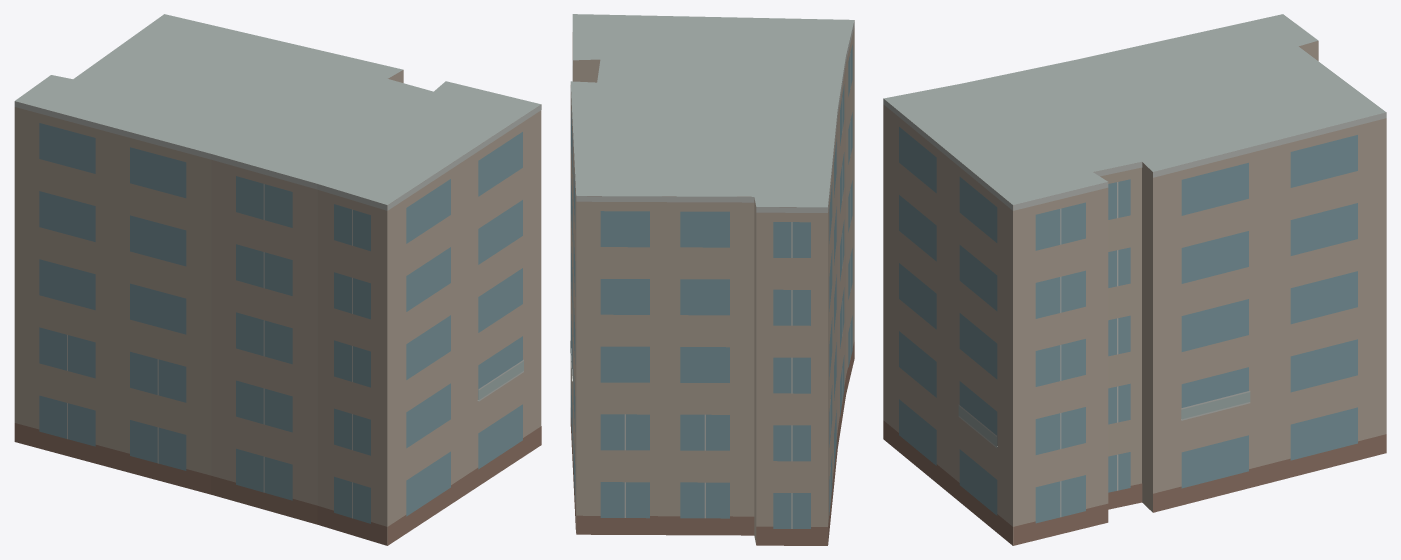
The model's file is survey-upis-32748327.glb.
The picture shows the model from 3 angles, left to right: view 1: azimuth 30°, elevation 25°; view 2: azimuth 150°, elevation 25°; view 3: azimuth 270°, elevation 25°; orthographic projection.
Visible parts, largest first — view 1: survey-upis-32748327.tmp; view 2: survey-upis-32748327.tmp; view 3: survey-upis-32748327.tmp.
Boxes of the visible parts, x1,y1,x2,y2 form: survey-upis-32748327.tmp: [14, 14, 541, 545]; survey-upis-32748327.tmp: [570, 14, 854, 545]; survey-upis-32748327.tmp: [883, 14, 1386, 545].
Bounding box in the file's own units: 17.34 × 14.4 × 19.28.
